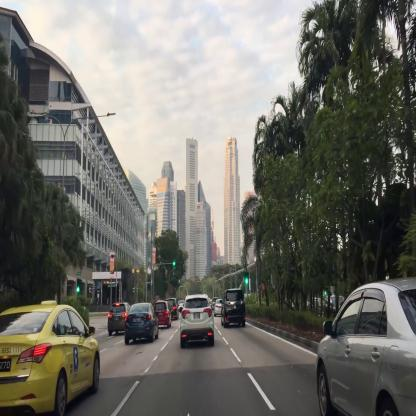green_traffic_light: (244, 272, 249, 285), (76, 279, 80, 291), (173, 262, 178, 266)
